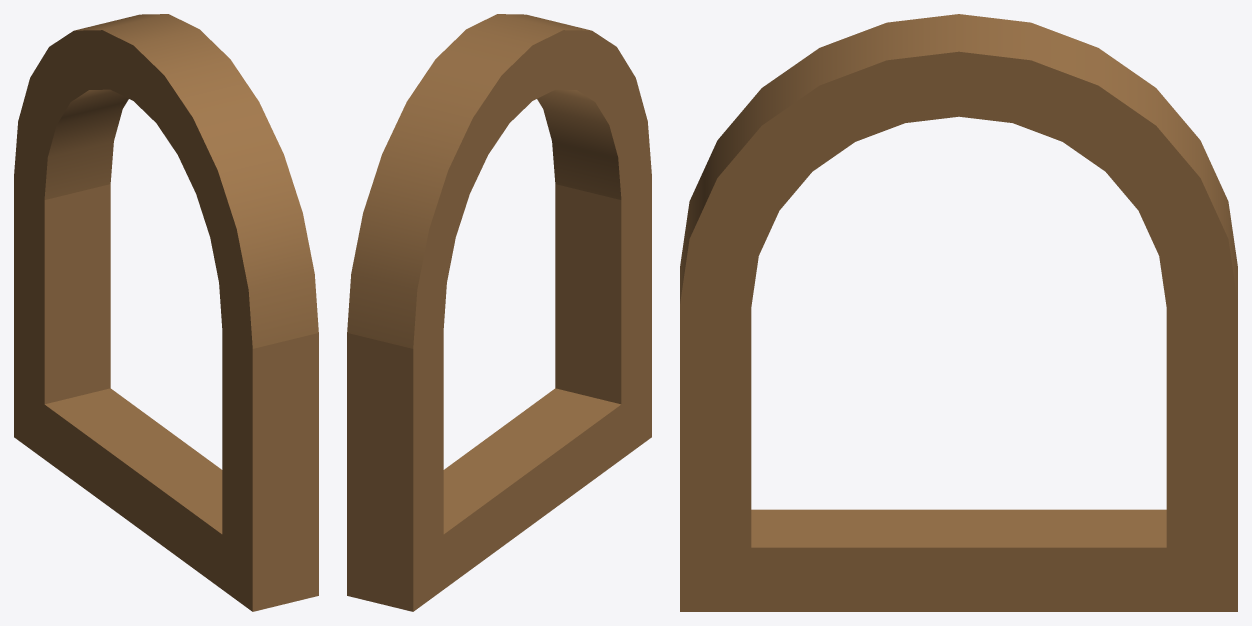
The model's file is detail_025.dae.
The picture shows the model from 3 angles, left to right: view 1: azimuth 30°, elevation 25°; view 2: azimuth 150°, elevation 25°; view 3: azimuth 270°, elevation 25°; orthographic projection. The views are drawn at different scales.
Visible parts, largest first — view 1: detail_025; view 2: detail_025; view 3: detail_025.
Boxes of the visible parts, left/top/right/bottom form: detail_025: left=14, top=14, right=318, bottom=611; detail_025: left=347, top=14, right=651, bottom=611; detail_025: left=680, top=14, right=1237, bottom=611.
Bounding box in the file's own units: 0.05 × 0.3462 × 0.3125.
